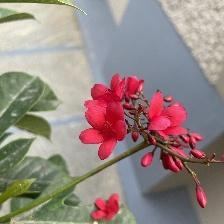jatropha: (80, 100, 130, 163)
